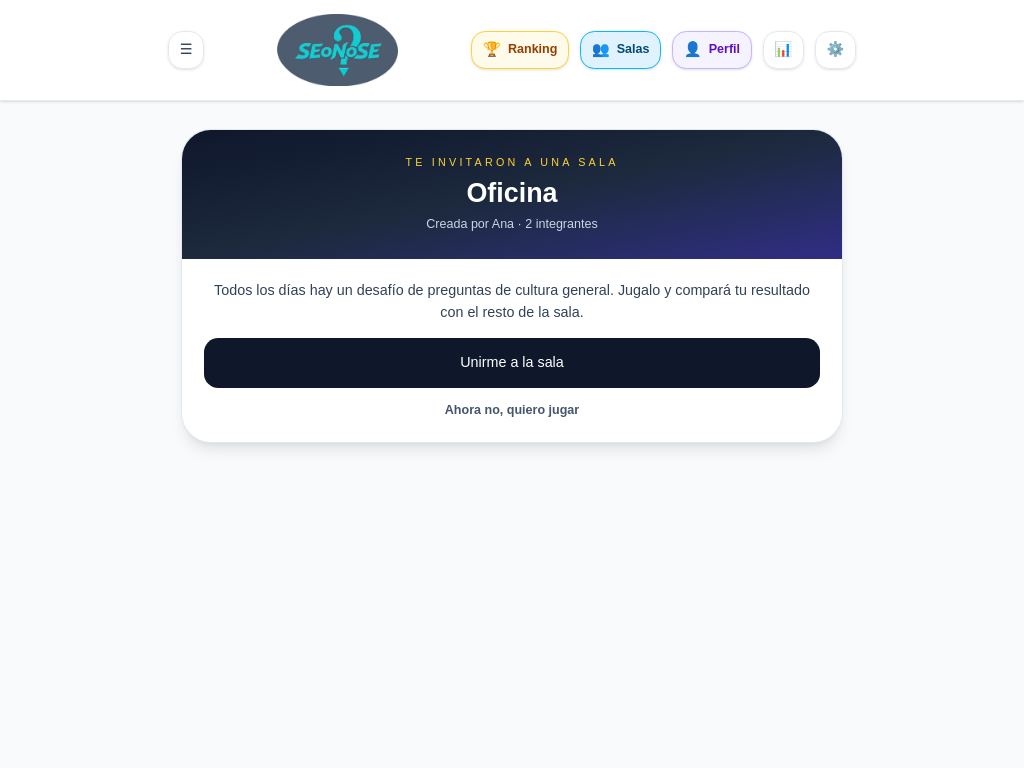
Test case: unirse por link › quien llega por invitación ve la sala y se une con un toque
The width and height of the screenshot is (1024, 768).
Expected: the text "Te invitaron a una sala" is shown, [405,156,619,168]
Expected: the heading "Oficina" is shown, [466,178,558,208]
Click the button "Unirme a la sala": point(512, 363) [204,338,820,388]
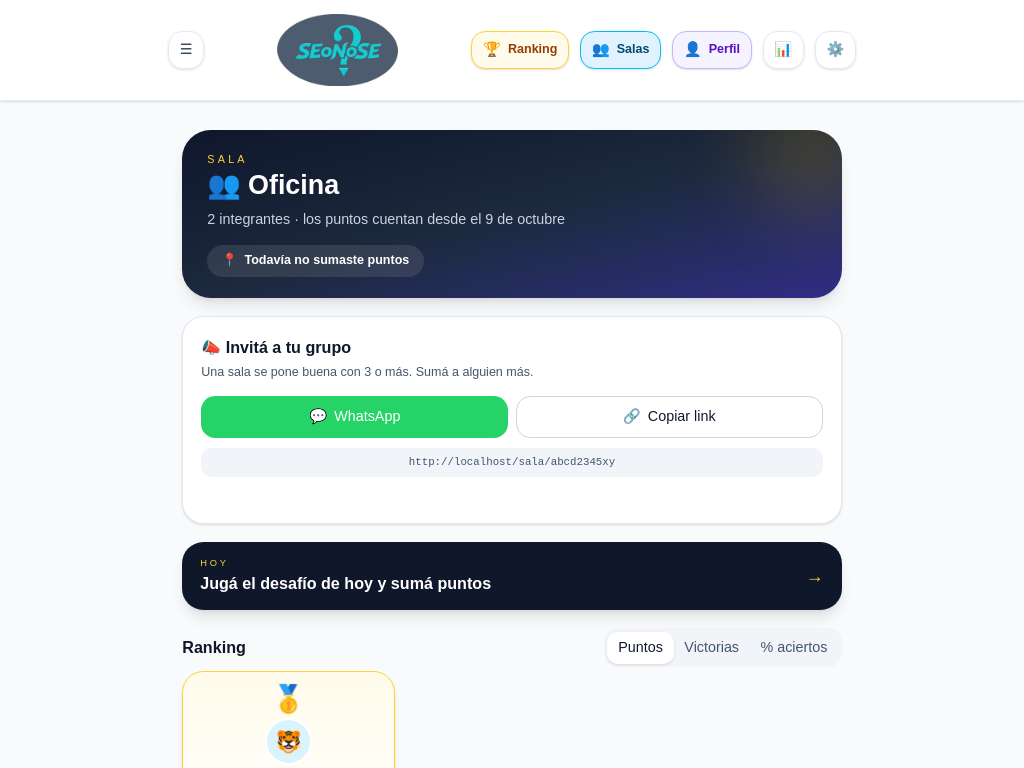
Expected: the heading "Ranking" is shown, [182,635,246,660]
Expected: the text "📍 Todavía no sumaste puntos" is shown, [207,245,424,277]
